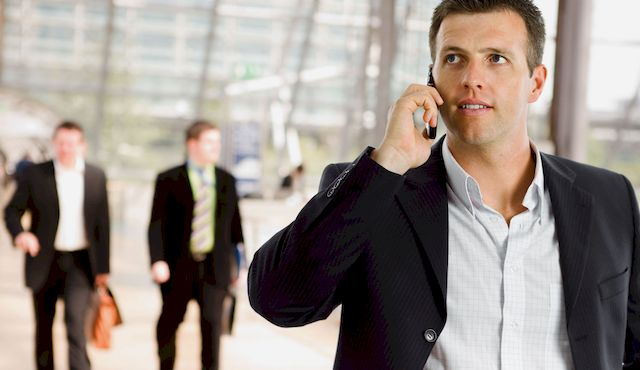phone: (421, 71, 442, 135)
talk: (388, 40, 528, 169)
